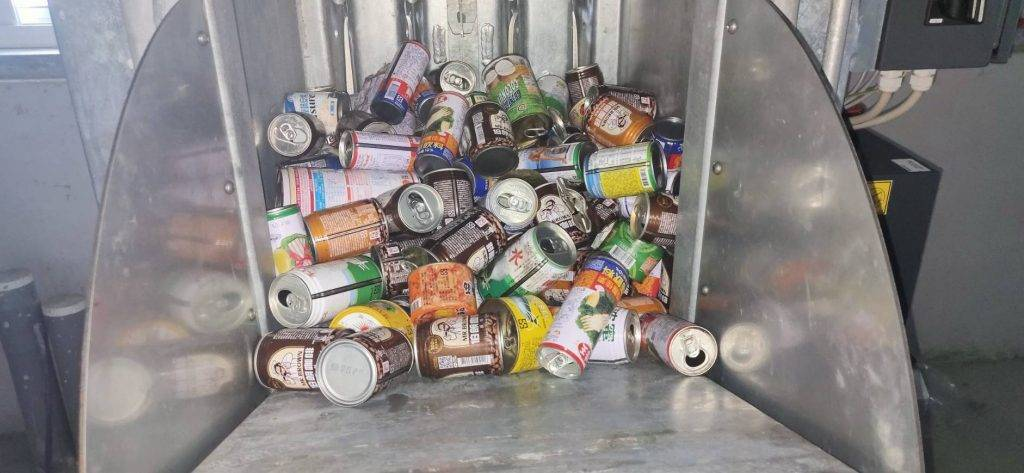metal: (539, 264, 620, 379), (272, 259, 378, 327), (477, 229, 579, 295), (325, 327, 415, 392), (272, 166, 417, 206), (369, 38, 431, 120), (584, 147, 664, 201), (421, 89, 461, 174), (589, 95, 653, 143), (489, 173, 542, 230), (473, 102, 515, 171)
